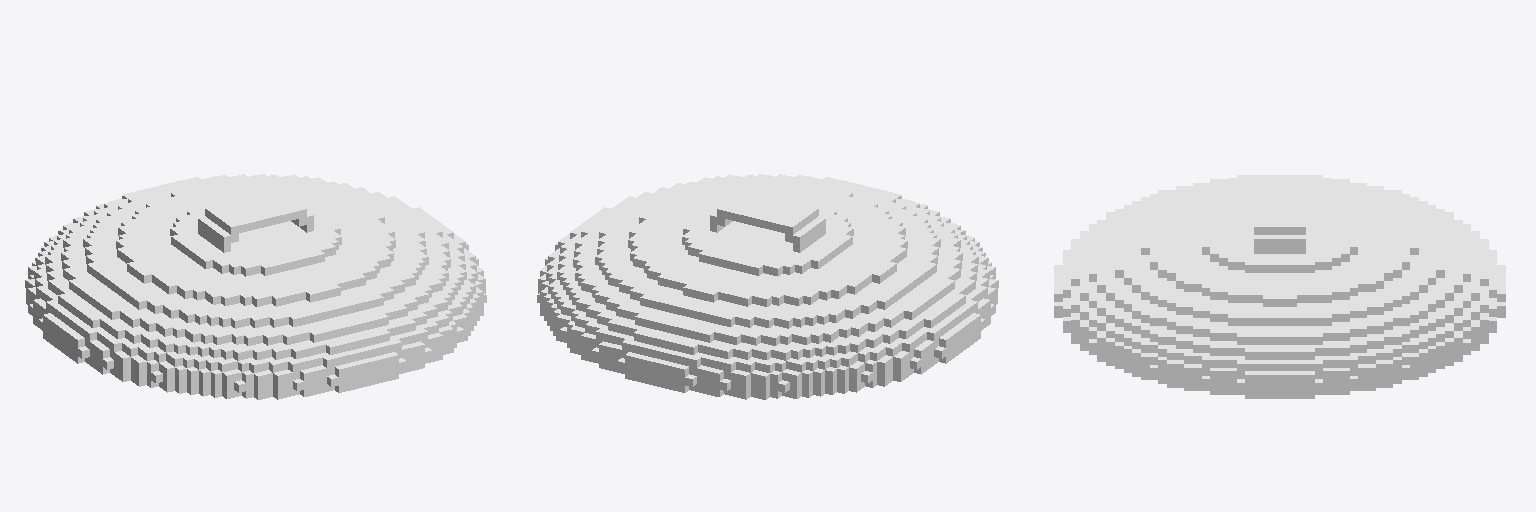
The model's file is trashcanlid.obj.
The picture shows the model from 3 angles: view 1: azimuth 30°, elevation 25°; view 2: azimuth 150°, elevation 25°; view 3: azimuth 270°, elevation 25°; orthographic projection.
Visible parts, largest first — view 1: object 1; view 2: object 1; view 3: object 1.
Part boxes in pixels (x1,y1,x2,y2): object 1: (25, 174, 486, 399); object 1: (537, 174, 998, 399); object 1: (1054, 175, 1505, 398).
Size of the model in its own units: 5.2 by 1.2 by 5.2.